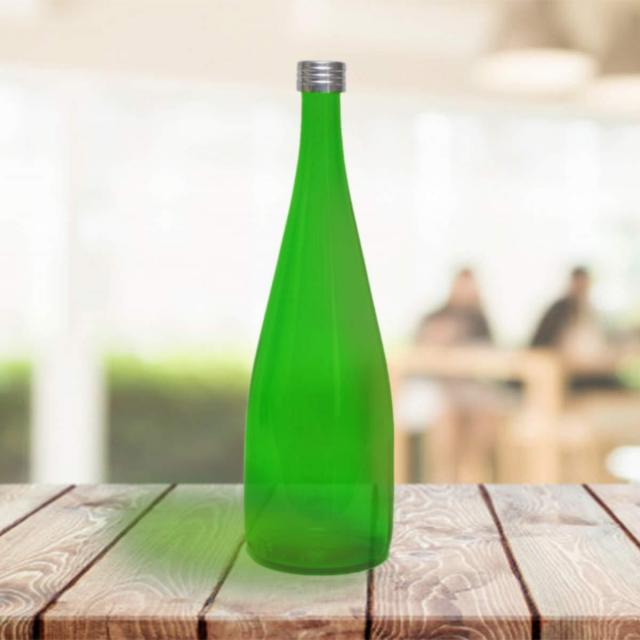non-organic waste: (243, 52, 392, 574)
